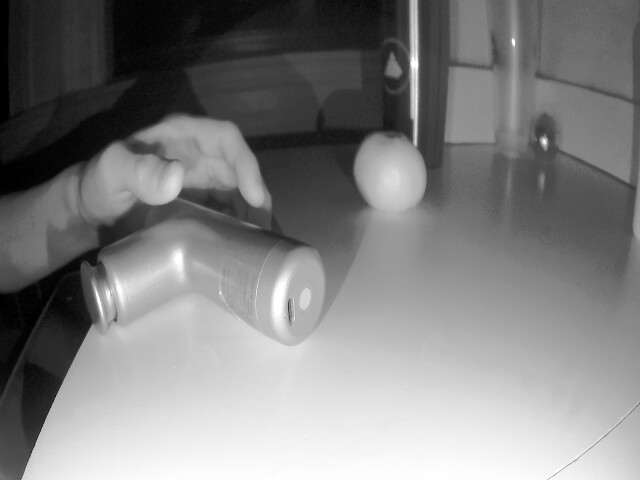black: (527, 119, 555, 163)
